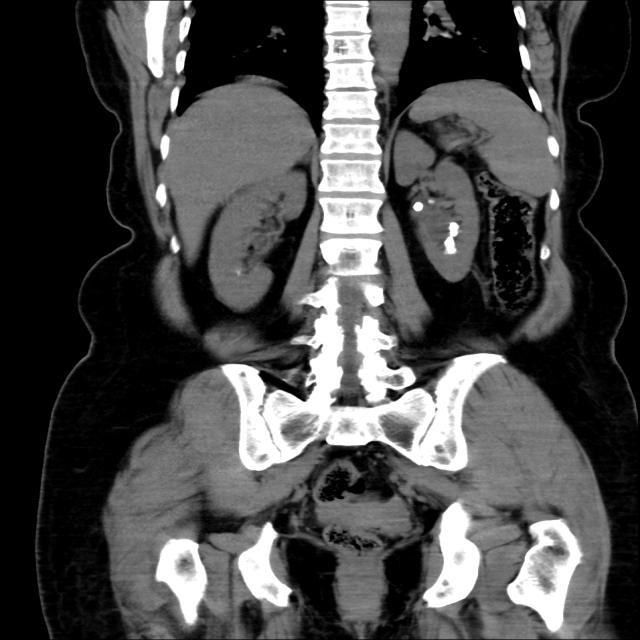kidneystone: (443, 222, 458, 255), (412, 201, 424, 211)
